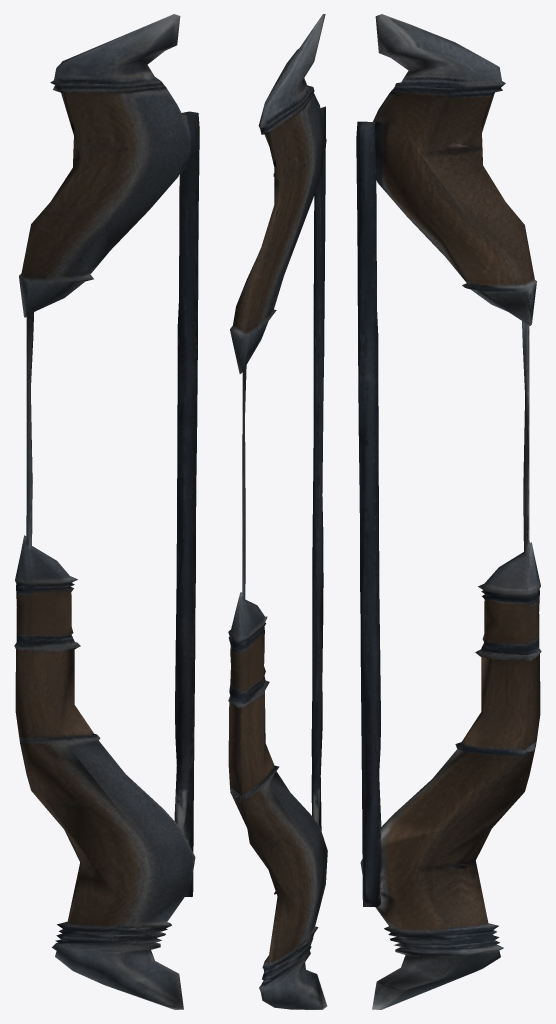
Rendered from bow-2.glb.
The picture shows the model from 3 angles, left to right: view 1: azimuth 90°, elevation 25°; view 2: azimuth 150°, elevation 25°; view 3: azimuth 270°, elevation 25°; orthographic projection.
Parts seen in each view (by area): view 1: Meshy_local_bake_bow-2; view 2: Meshy_local_bake_bow-2; view 3: Meshy_local_bake_bow-2.
Boxes of the visible parts, x1=… form: Meshy_local_bake_bow-2: x1=14, y1=14, x2=199, y2=1009; Meshy_local_bake_bow-2: x1=228, y1=14, x2=327, y2=1009; Meshy_local_bake_bow-2: x1=356, y1=14, x2=541, y2=1009.
Size of the model in its own units: 0.042 by 1.36 by 0.2291.
Materials: 1 (1 with a texture image).
